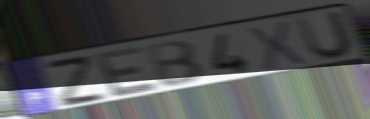4: (211, 31, 252, 76)
B: (144, 38, 208, 90)
E: (92, 44, 160, 100)
U: (294, 8, 357, 61)
X: (246, 19, 308, 73)
Z: (41, 54, 111, 110)
